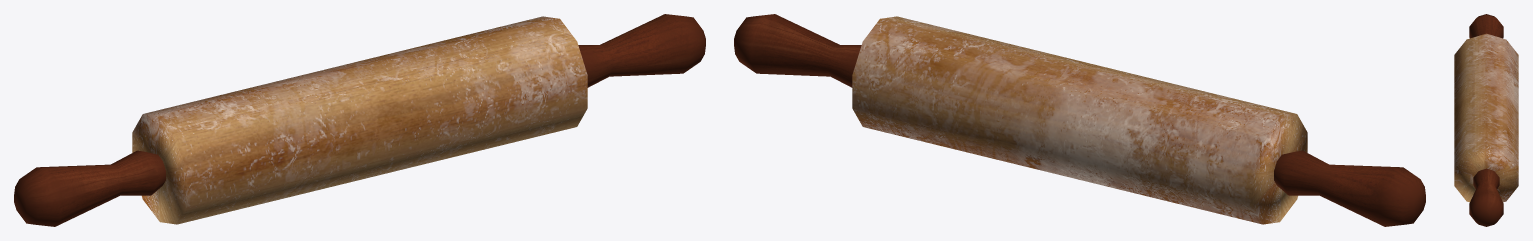
The model's file is RollingPin_Dark_Flour.fbx.
The picture shows the model from 3 angles, left to right: view 1: azimuth 30°, elevation 25°; view 2: azimuth 150°, elevation 25°; view 3: azimuth 270°, elevation 25°; orthographic projection. The views are drawn at different scales.
Parts seen in each view (by area): view 1: RollingPin_Dark_Flour; view 2: RollingPin_Dark_Flour; view 3: RollingPin_Dark_Flour.
Boxes of the visible parts, bbox=[...] form: RollingPin_Dark_Flour: bbox=[14, 14, 705, 226]; RollingPin_Dark_Flour: bbox=[734, 14, 1425, 226]; RollingPin_Dark_Flour: bbox=[1454, 14, 1518, 226].
Bounding box in the file's own units: 165 × 24.52 × 23.32.
